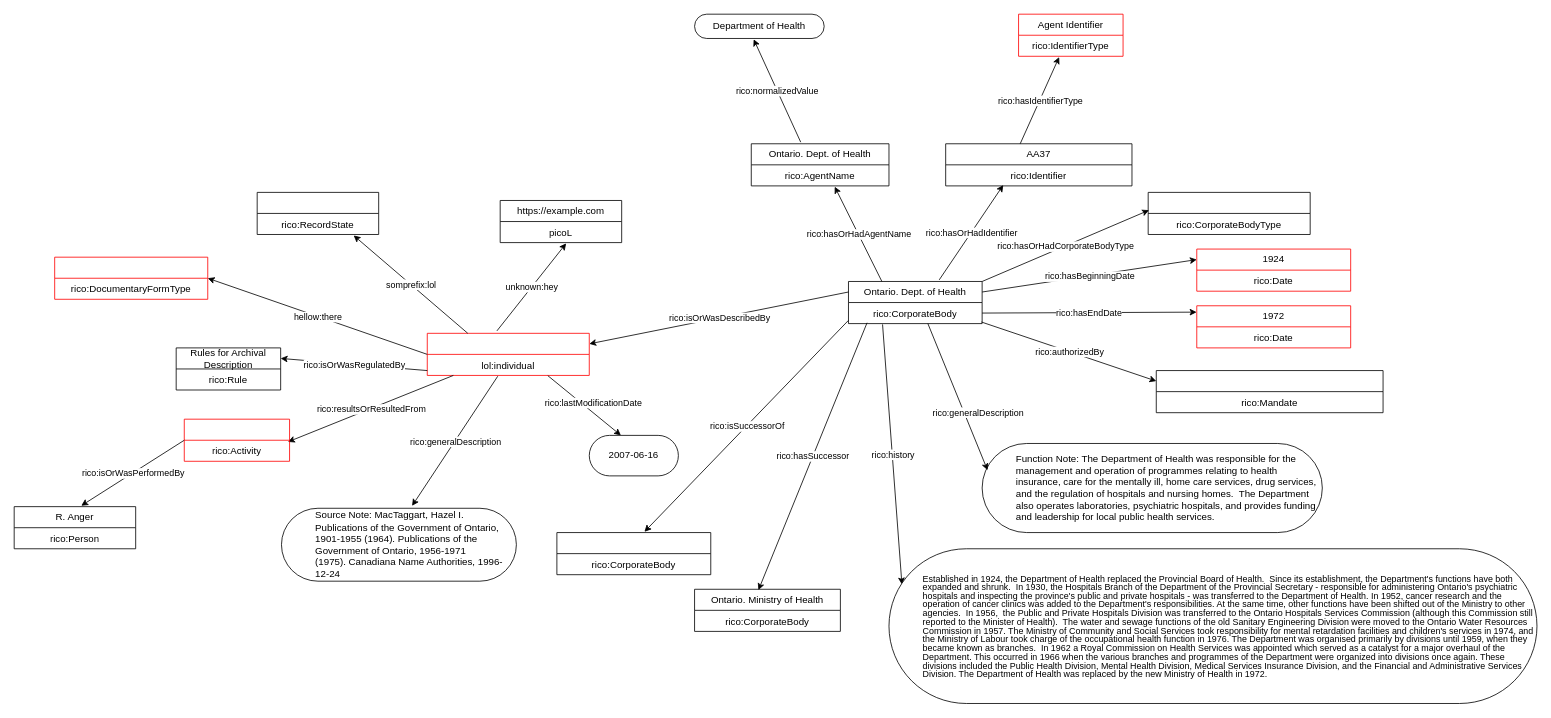
Image size: 1551x718. Some labels were removed from this diagram. The box of each missing label's shape, as (x1, y1, x2, y2) in pixels:
A Ontario Government Name: (1147, 192, 1310, 234)
Authority Record: (54, 256, 208, 299)
Authority Record Creation: (183, 418, 290, 461)
Ontario. Dept. of Health Authority Record: (426, 333, 589, 375)
Provincial Board of Health of Ontario: (556, 532, 711, 575)
The Health Department Act, Statutes of Ontario 1924, Chap. 69: (1155, 370, 1383, 413)
Web Ready: Y: (256, 192, 379, 234)
